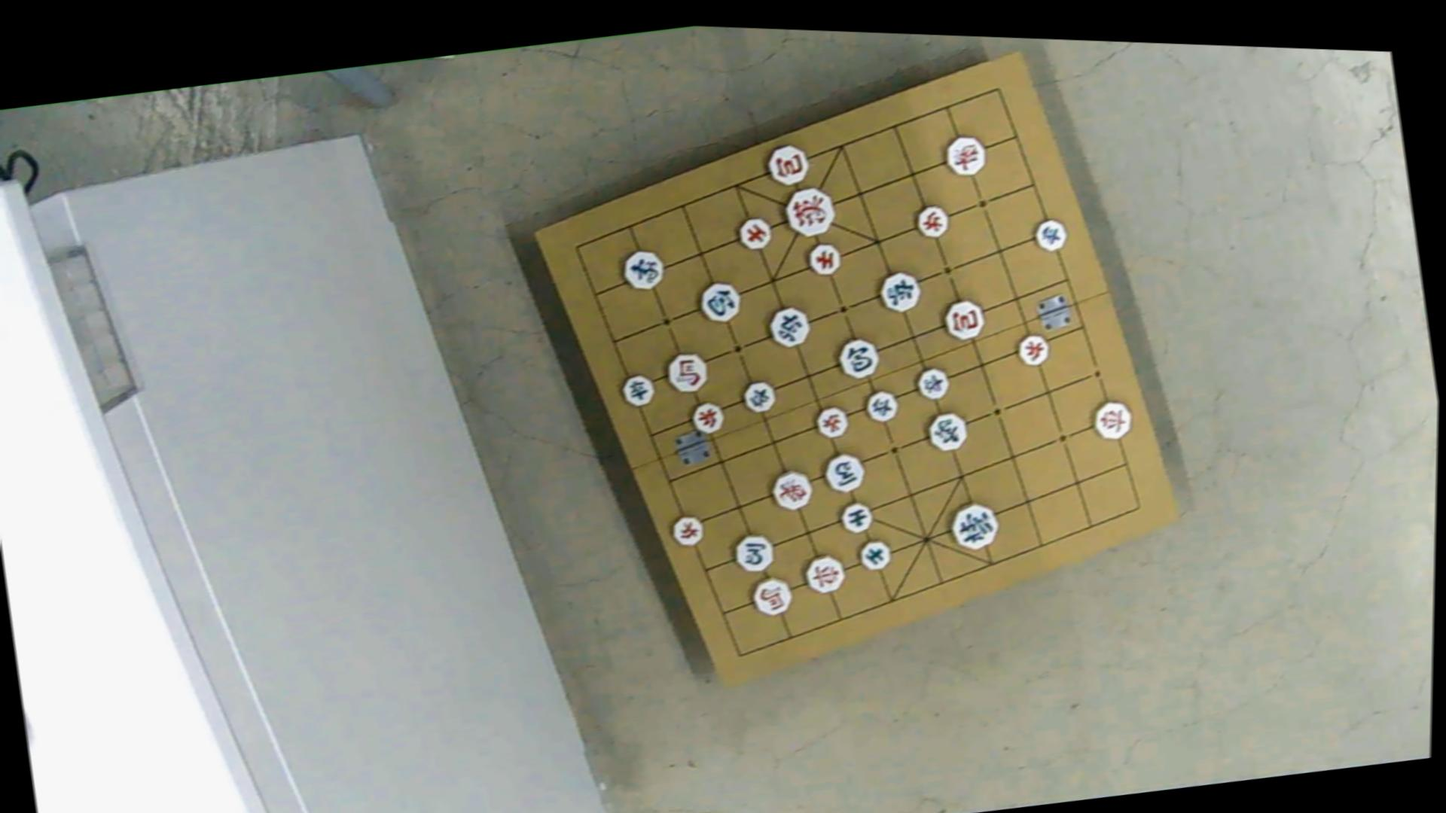cha_green: (767, 303, 814, 349), (876, 269, 923, 315)
cha_red: (1091, 398, 1135, 443), (804, 552, 848, 595)
jol_green: (742, 376, 779, 413), (621, 372, 657, 410), (1033, 217, 1069, 253), (862, 388, 897, 424), (916, 364, 950, 399)
jol_red: (914, 202, 950, 239), (689, 400, 726, 436), (1014, 331, 1050, 366), (815, 403, 850, 438), (672, 513, 706, 547)
ma_green: (821, 450, 866, 495), (730, 531, 775, 574)
ma_red: (664, 351, 710, 395), (750, 574, 794, 617)
po_green: (697, 279, 745, 326), (836, 335, 882, 380)
po_red: (763, 142, 810, 187), (939, 298, 985, 343)
sa_green: (856, 537, 894, 573), (838, 499, 874, 534)
sa_red: (807, 239, 844, 276), (737, 215, 774, 251)
sang_green: (621, 248, 666, 293), (924, 407, 969, 452)
sang_red: (944, 132, 989, 177), (771, 467, 816, 512)
wang_green: (948, 498, 1002, 553)
wang_red: (782, 182, 838, 238)
